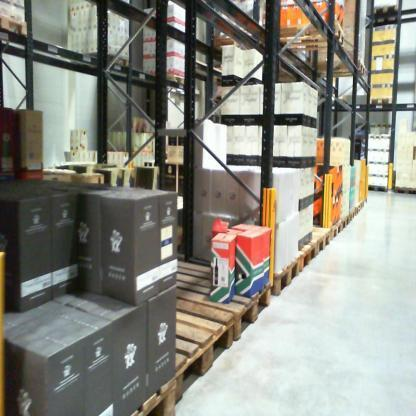pallet: (178, 257, 271, 340), (176, 296, 235, 400), (273, 261, 299, 296)
